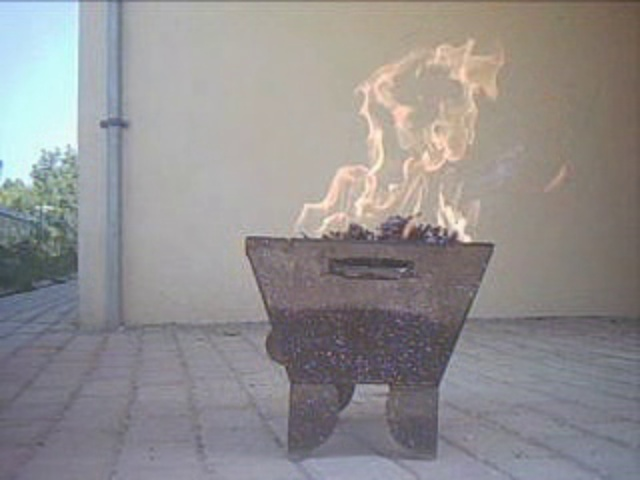fire: (290, 38, 503, 246)
